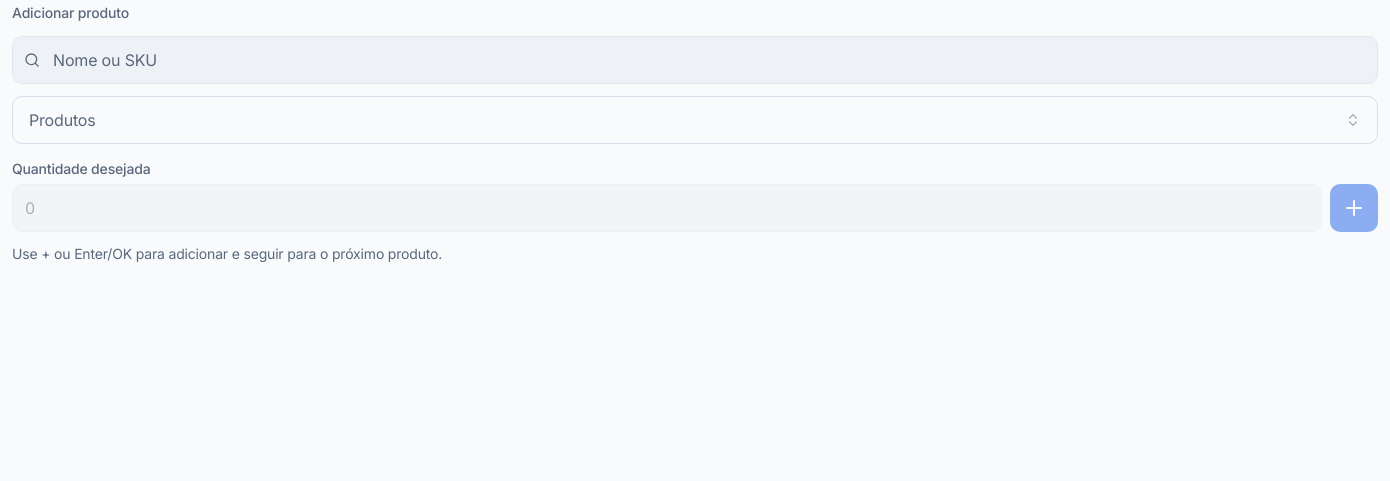
Test: Entrada manual de requisição › mostra a pesquisa sem abrir Produtos, normaliza acentos e busca SKU
The image size is (1390, 481).
expect the dropdown labelled "Produtos" is shown: met, box [12,96,1378,144]
Type "acucar" into the field labelled "Adicionar produto". click: (695, 60)
box: [12,36,1378,84]
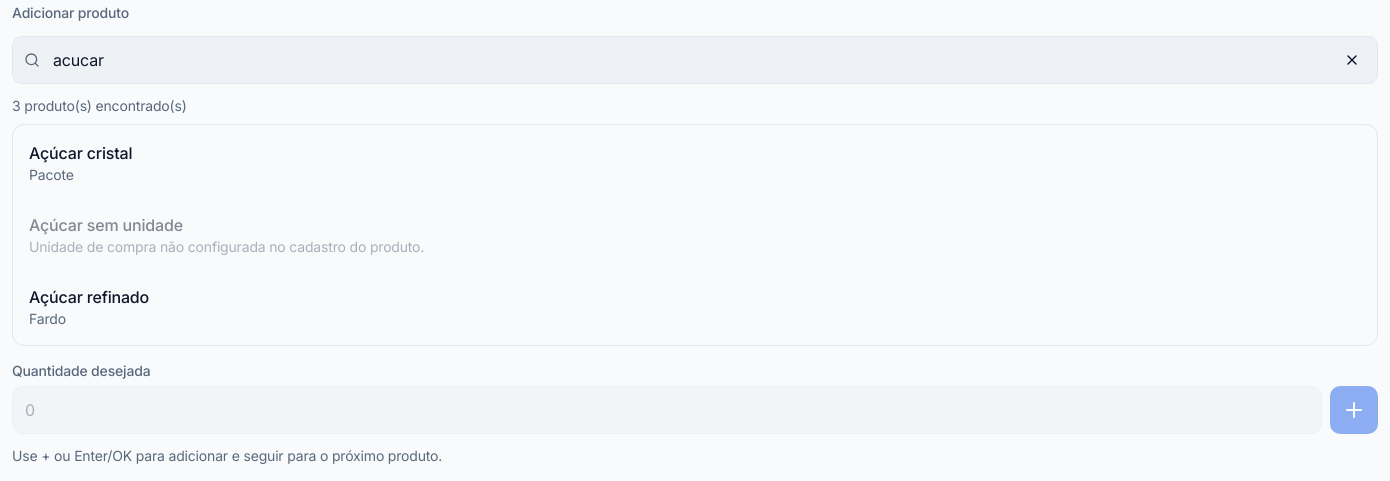
expect the button "Açúcar cristal Pacote" is shown: met, box [17,129,1373,197]
expect the dropdown is gone: met
Replace the text in the field labelled "Adicionar produto" with "ac-03". click: (695, 60)
box: [12,36,1378,84]
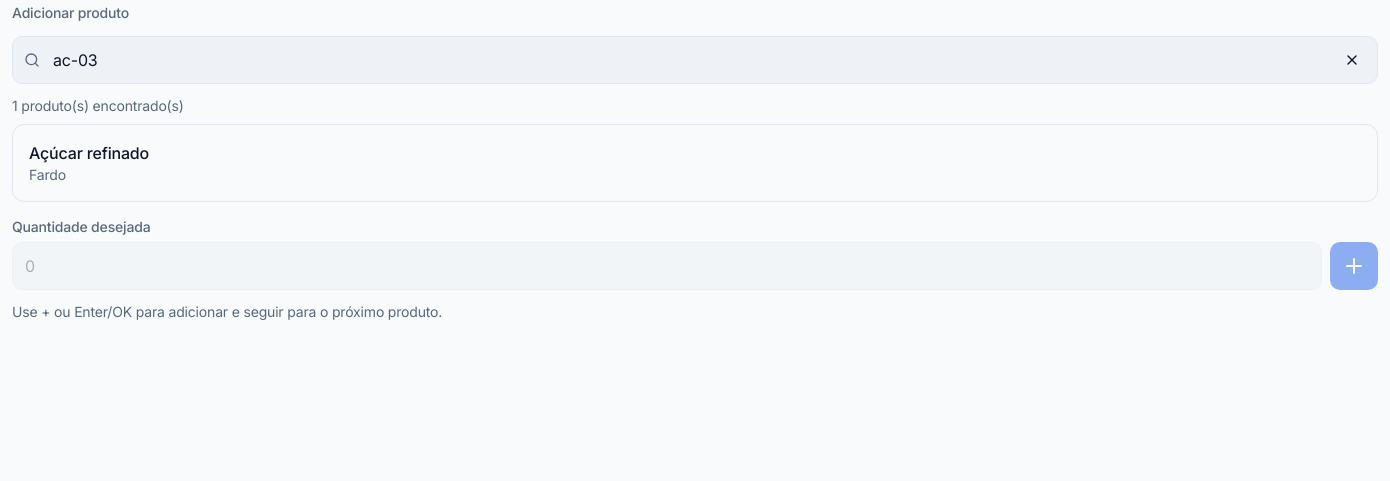
expect the button "Açúcar refinado Fardo" is shown: met, box [17,129,1373,197]
expect the button "Açúcar cristal" is gone: met
